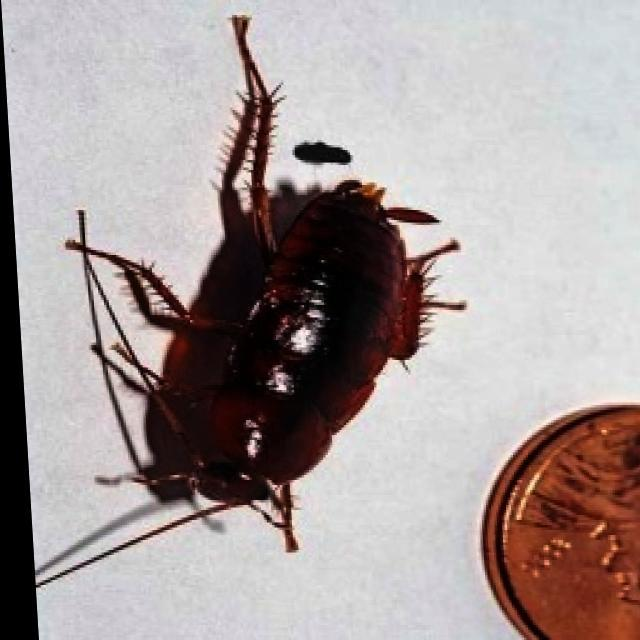cockroach: (35, 10, 471, 589)
